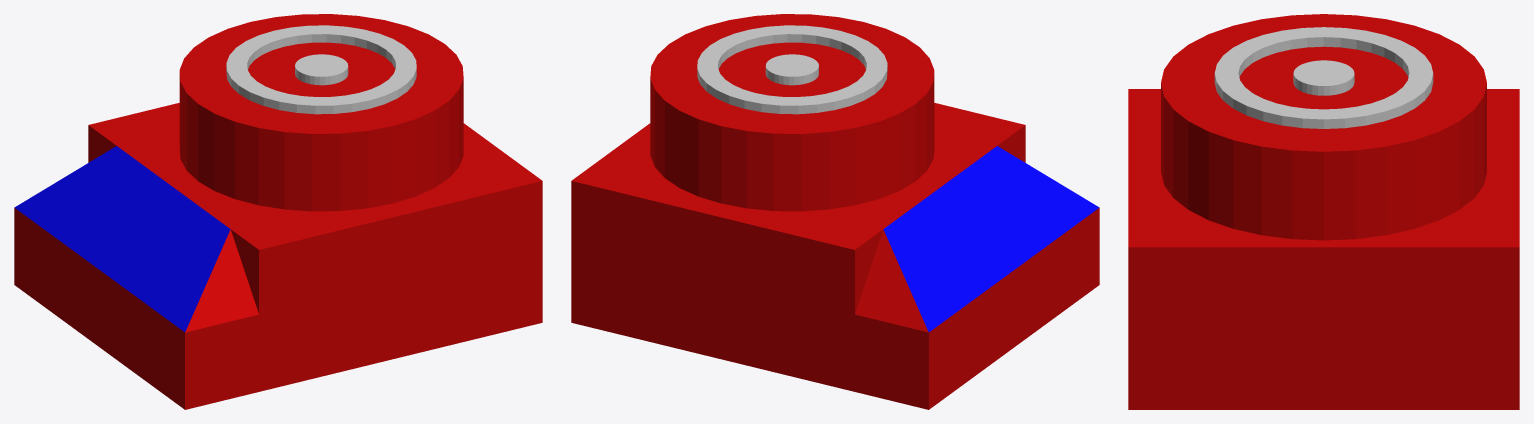
File: centrifuge_eba20.dae
3 renders of one model, left to right at view 1: azimuth 30°, elevation 25°; view 2: azimuth 150°, elevation 25°; view 3: azimuth 270°, elevation 25°, orthographic. The views are drawn at different scales.
Parts seen in each view (by area): view 1: Cylinder, Sphere; view 2: Cylinder, Sphere; view 3: Cylinder, Sphere.
Part boxes in pixels (x1,y1,x2,y2): Cylinder: (14,14,542,409); Sphere: (226,25,416,114); Cylinder: (571,14,1099,409); Sphere: (697,25,887,114); Cylinder: (1128,14,1519,409); Sphere: (1214,27,1433,128).
Bounding box in the file's own units: 0.29 × 0.24 × 0.1765.
